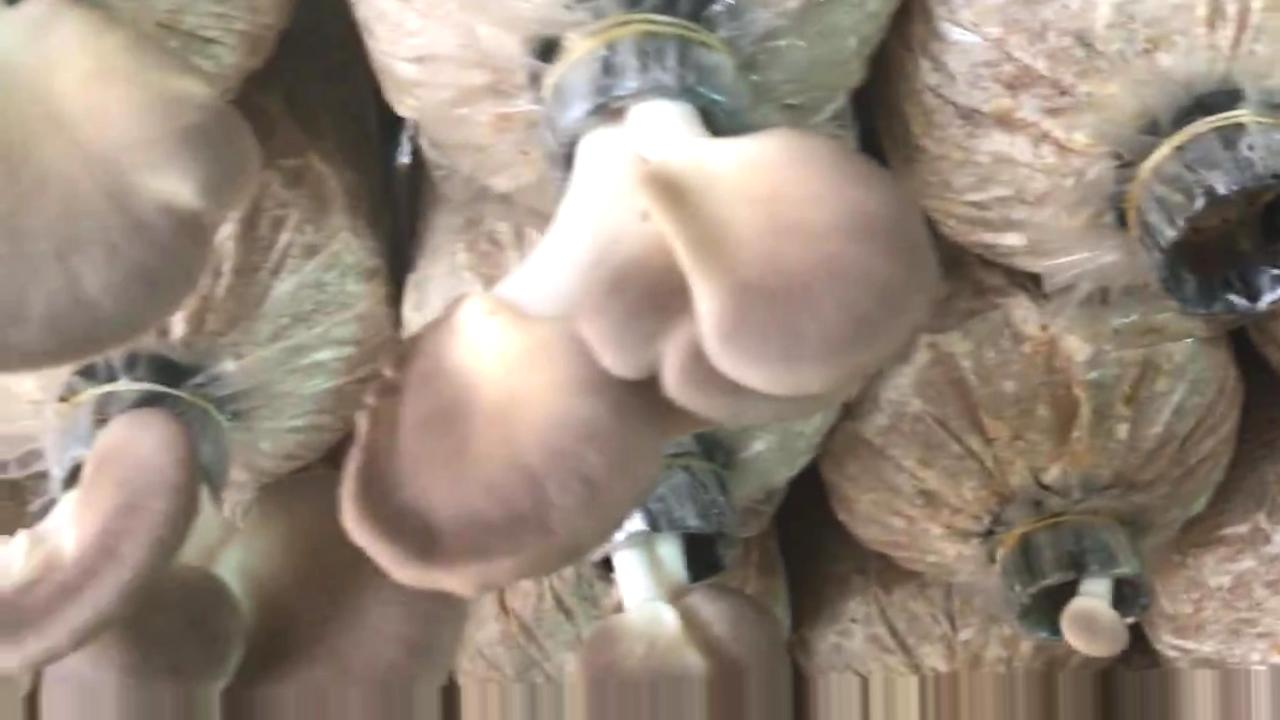nam: (345, 18, 936, 591), (1, 383, 460, 720), (3, 1, 256, 372), (560, 450, 791, 720), (992, 518, 1152, 656)
